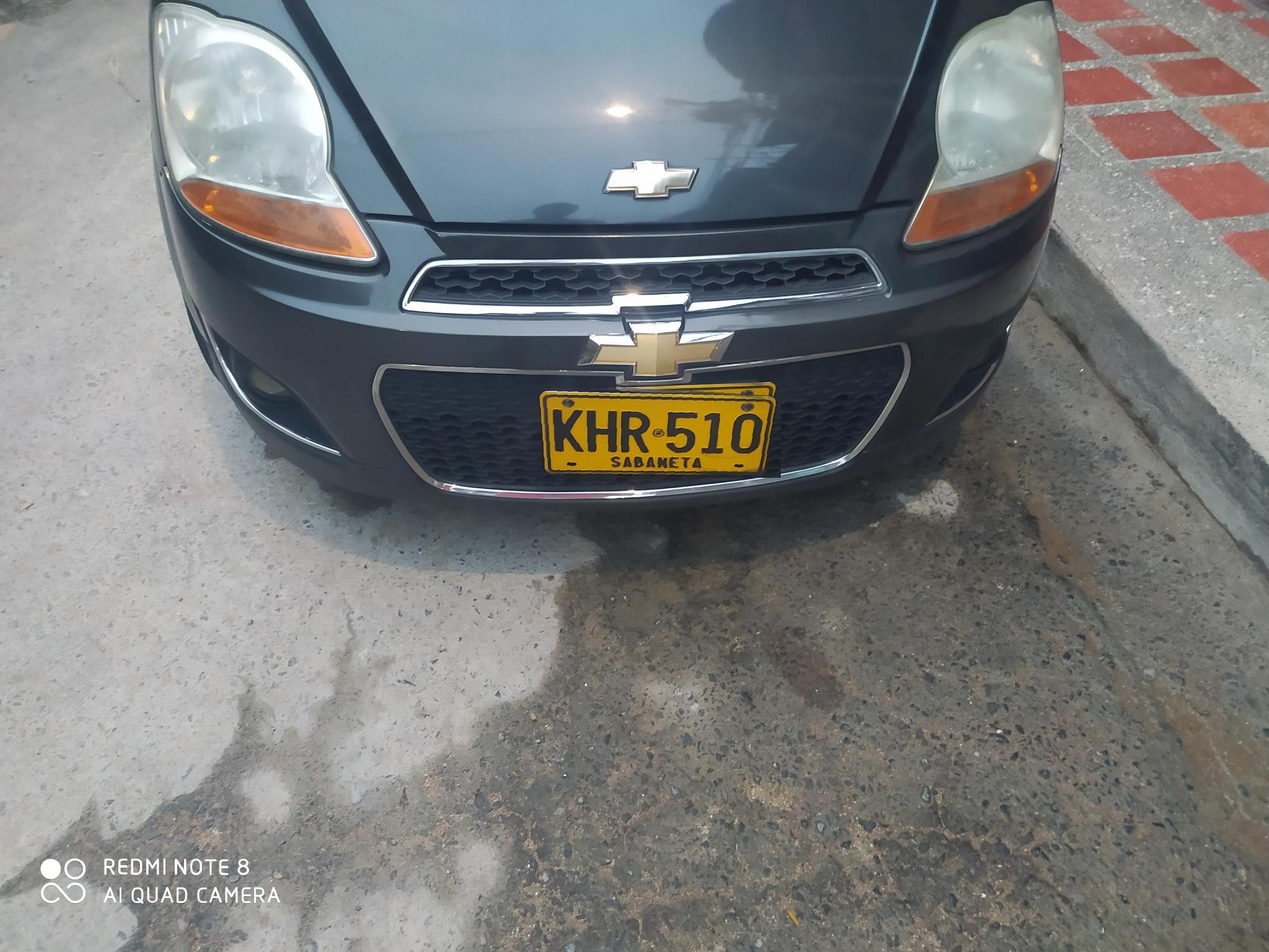placa: (531, 381, 781, 478)
